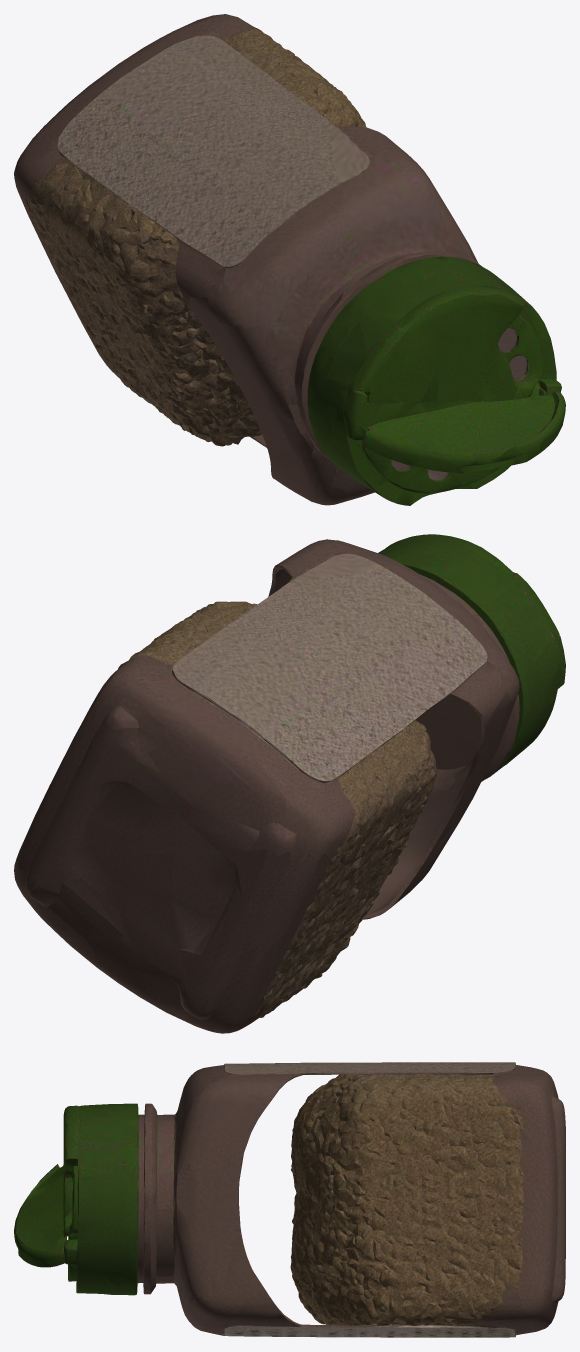
File: sister-24.glb
3 renders of one model, top to bottom at view 1: azimuth 30°, elevation 25°; view 2: azimuth 150°, elevation 25°; view 3: azimuth 270°, elevation 25°, orthographic. The views are drawn at different scales.
Visible parts, largest first — view 1: spice jar; view 2: spice jar; view 3: spice jar.
Part boxes in pixels (bbox=[...]): spice jar: bbox=[14, 14, 565, 505]; spice jar: bbox=[14, 534, 565, 1033]; spice jar: bbox=[14, 1062, 565, 1337].
Bounding box in the file's own units: 0.0867 × 0.0879 × 0.1556.
1 material, 1 textured.
